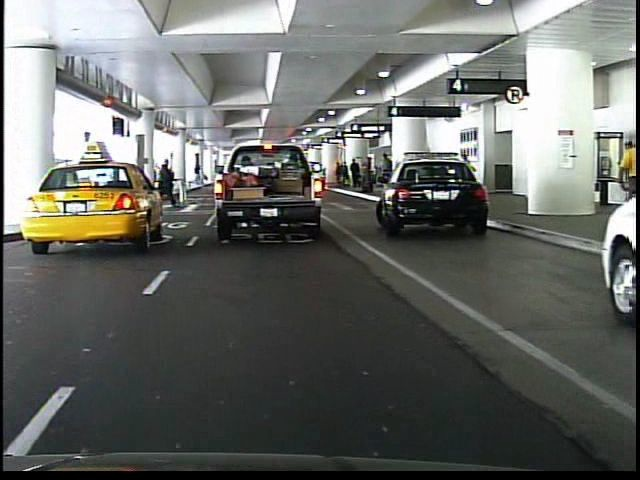person: (609, 122, 639, 245), (149, 154, 175, 214), (229, 148, 252, 202)
